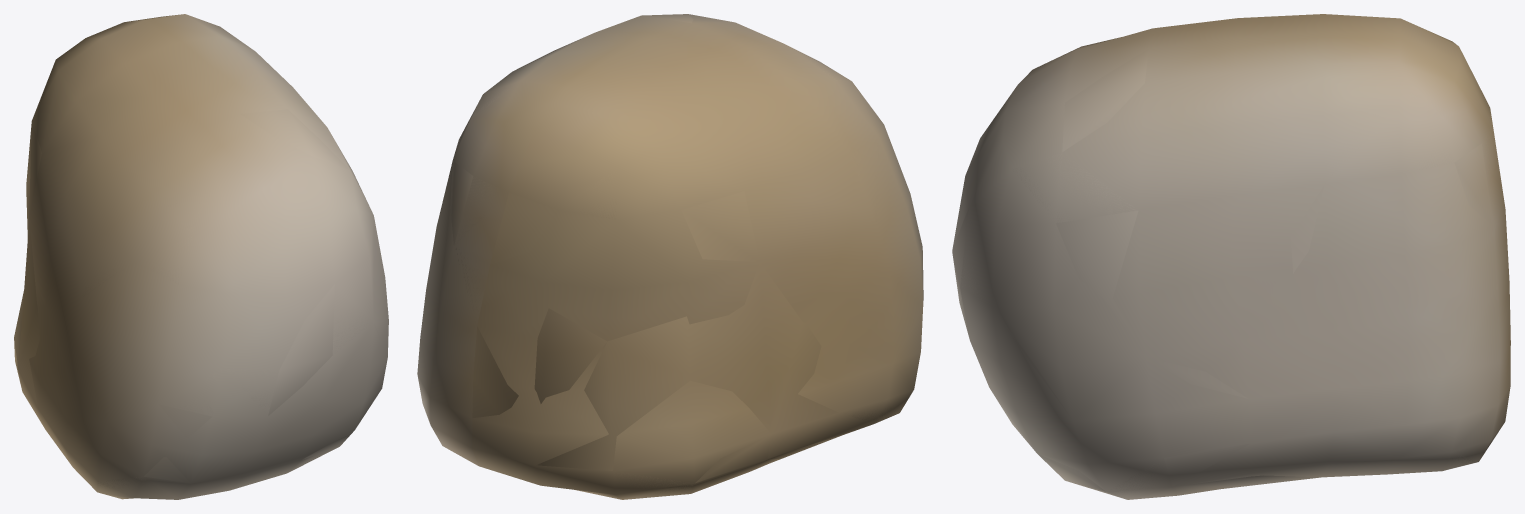
File: R carpale tertium.fbx
3 renders of one model, left to right at view 1: azimuth 30°, elevation 25°; view 2: azimuth 150°, elevation 25°; view 3: azimuth 270°, elevation 25°, orthographic. The views are drawn at different scales.
Visible parts, largest first — view 1: R carpale tertium, R carpale tertium low; view 2: R carpale tertium, R carpale tertium low; view 3: R carpale tertium, R carpale tertium low.
Part boxes in pixels (x1,y1,x2,y2): R carpale tertium: [14, 14, 388, 499]; R carpale tertium low: [15, 22, 386, 499]; R carpale tertium: [417, 14, 923, 499]; R carpale tertium low: [450, 14, 898, 498]; R carpale tertium: [952, 14, 1510, 499]; R carpale tertium low: [952, 21, 1508, 498].
Bounding box in the file's own units: 0.8333 × 0.8858 × 1.03.
